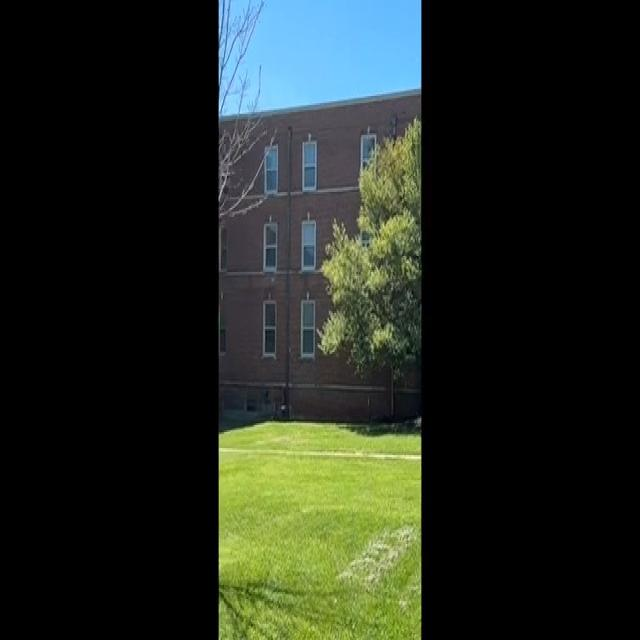drone: (275, 397, 292, 417)
